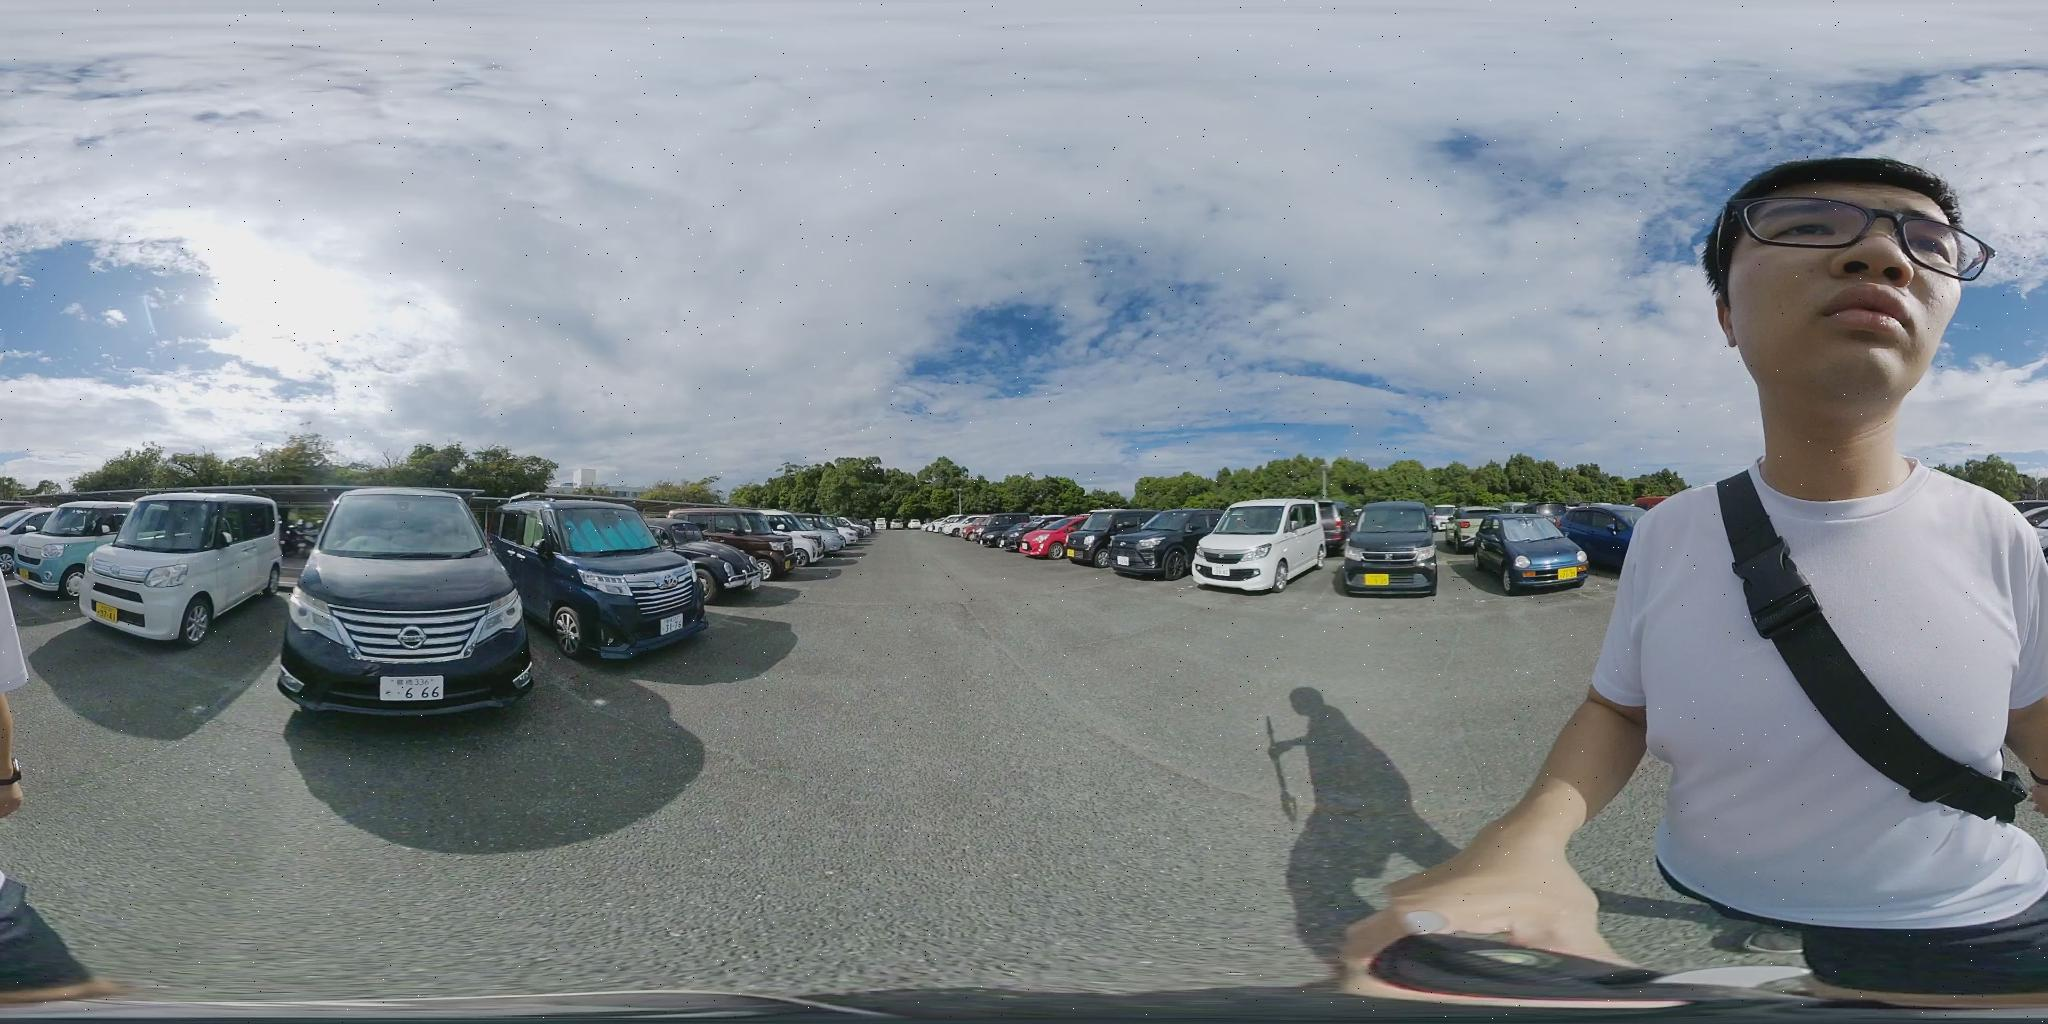car: (283, 486, 538, 718), (65, 491, 285, 647), (498, 503, 696, 654), (1199, 500, 1327, 592), (0, 504, 132, 592), (662, 508, 836, 569), (1459, 512, 1587, 594), (1100, 507, 1220, 581), (1340, 504, 1441, 573), (1025, 517, 1095, 556), (972, 519, 1031, 550)
